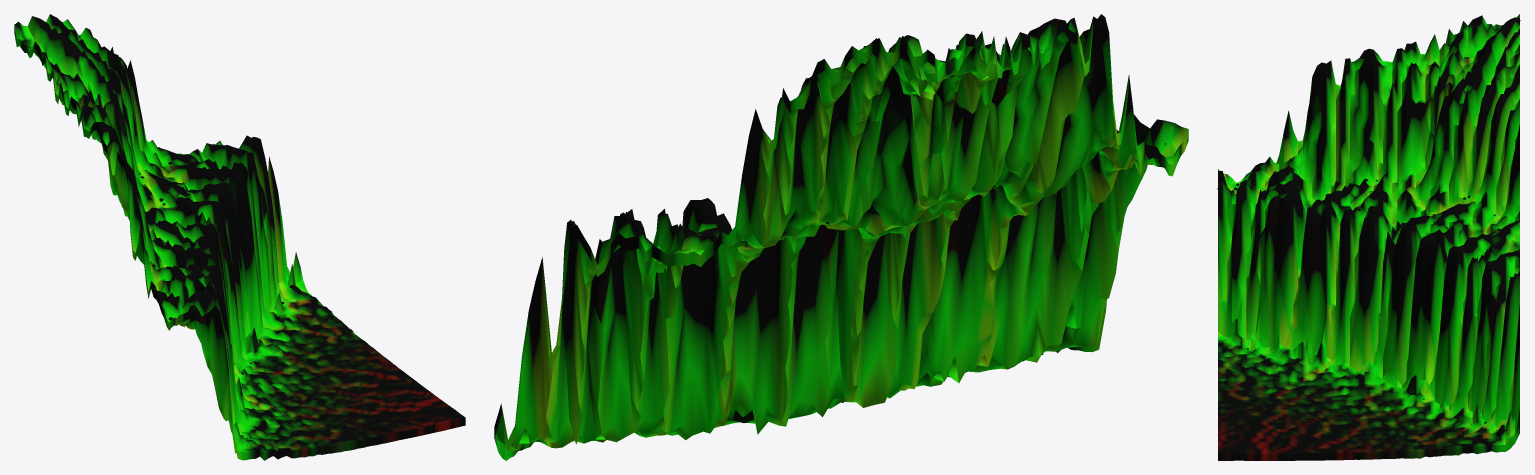
Rendered from Terrain_02_06.fbx.
The picture shows the model from 3 angles, left to right: view 1: azimuth 30°, elevation 25°; view 2: azimuth 150°, elevation 25°; view 3: azimuth 270°, elevation 25°; orthographic projection. The views are drawn at different scales.
Parts seen in each view (by area): view 1: Terrain_02_06_LOD0; view 2: Terrain_02_06_LOD0; view 3: Terrain_02_06_LOD0.
Boxes of the visible parts, x1,y1,x2,y2 form: Terrain_02_06_LOD0: [14, 14, 465, 460]; Terrain_02_06_LOD0: [494, 14, 1188, 460]; Terrain_02_06_LOD0: [1217, 14, 1520, 460].
Size of what is drawn, in the model's own units: 384 by 455 by 386.
